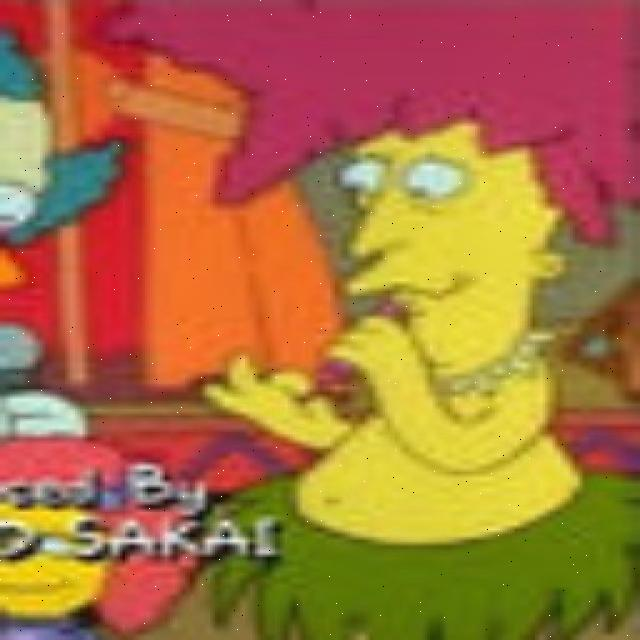Krusty the Clown: (0, 25, 120, 307)
